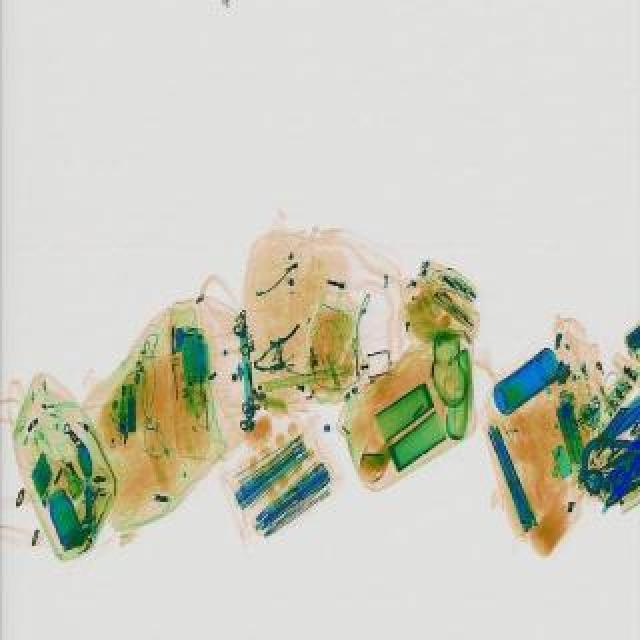wrench: (598, 472, 640, 512)
